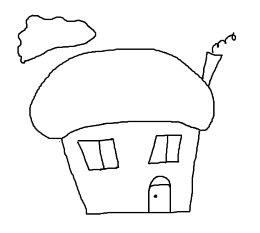closed_window: (75, 137, 119, 170), (148, 134, 183, 165)
clouds: (15, 13, 95, 63)
door: (144, 171, 176, 216)
roof: (29, 45, 216, 140)
smoking_chimney: (197, 30, 242, 89)
wall: (61, 121, 200, 216)
